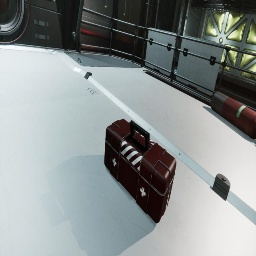FirstAidBox ,: (104, 119, 176, 223)
NitrogenTank ,: (211, 91, 256, 140)
